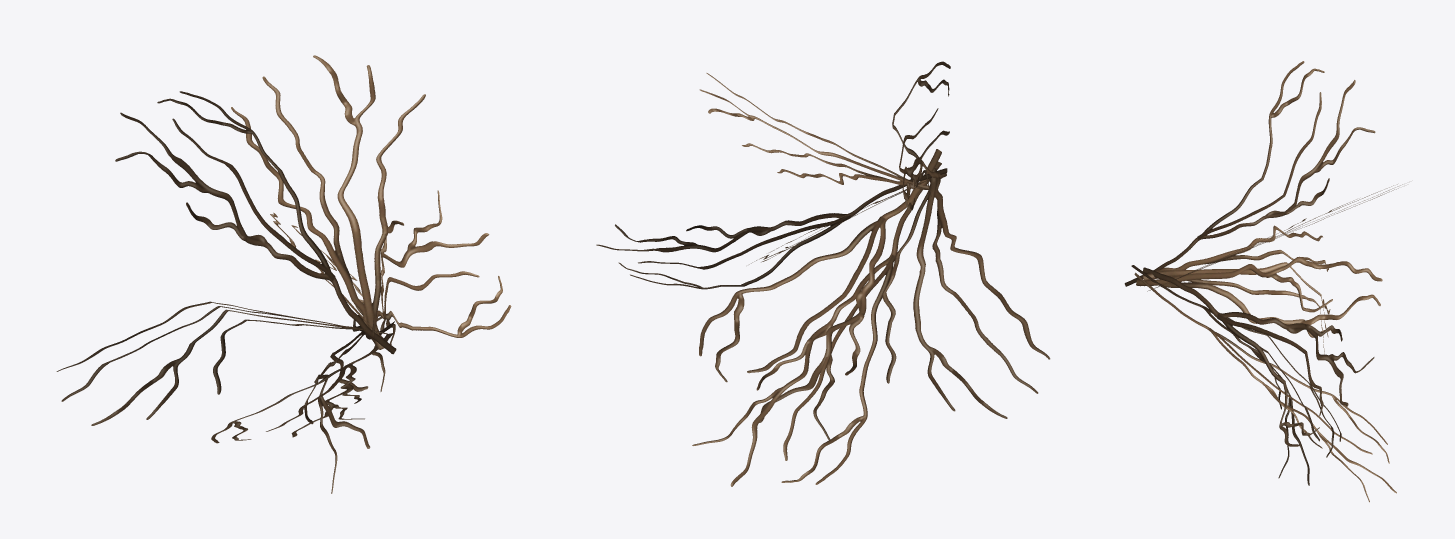
The model's file is Brush_02_d.fbx.
3 views of the same model, side by side, from view 1: azimuth 30°, elevation 25°; view 2: azimuth 150°, elevation 25°; view 3: azimuth 270°, elevation 25° (orthographic). The views are drawn at different scales.
Parts seen in each view (by area): view 1: Brush_02_d; view 2: Brush_02_d; view 3: Brush_02_d.
Part boxes in pixels (box(x1,y1,x2,y2)): Brush_02_d: box(56, 55, 511, 493); Brush_02_d: box(596, 61, 1050, 486); Brush_02_d: box(1124, 61, 1402, 502).
Size of the model in its own units: 3.17 by 2.98 by 2.06.
